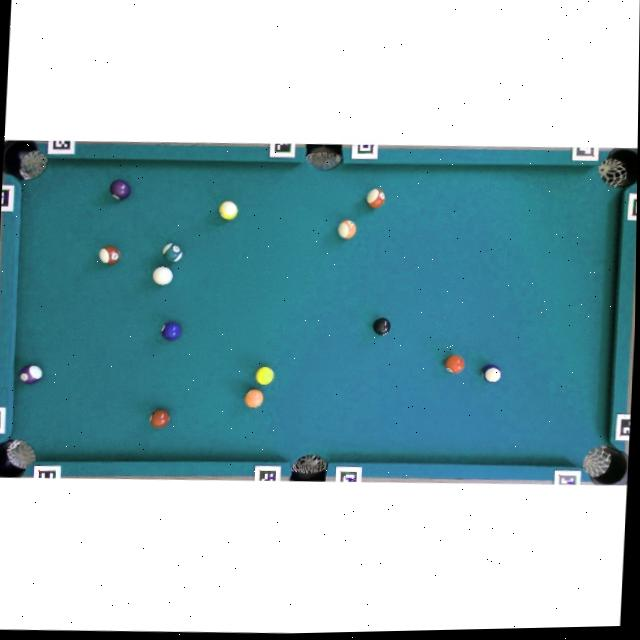cue ball: (151, 265, 174, 286)
other: (18, 363, 42, 384), (162, 241, 183, 263), (109, 179, 130, 200), (243, 388, 264, 408), (365, 187, 385, 208), (149, 408, 170, 428), (254, 365, 274, 386), (444, 354, 464, 374), (481, 363, 501, 383), (217, 200, 237, 220), (160, 321, 181, 340), (99, 245, 120, 264), (337, 219, 356, 239), (372, 317, 391, 336)
